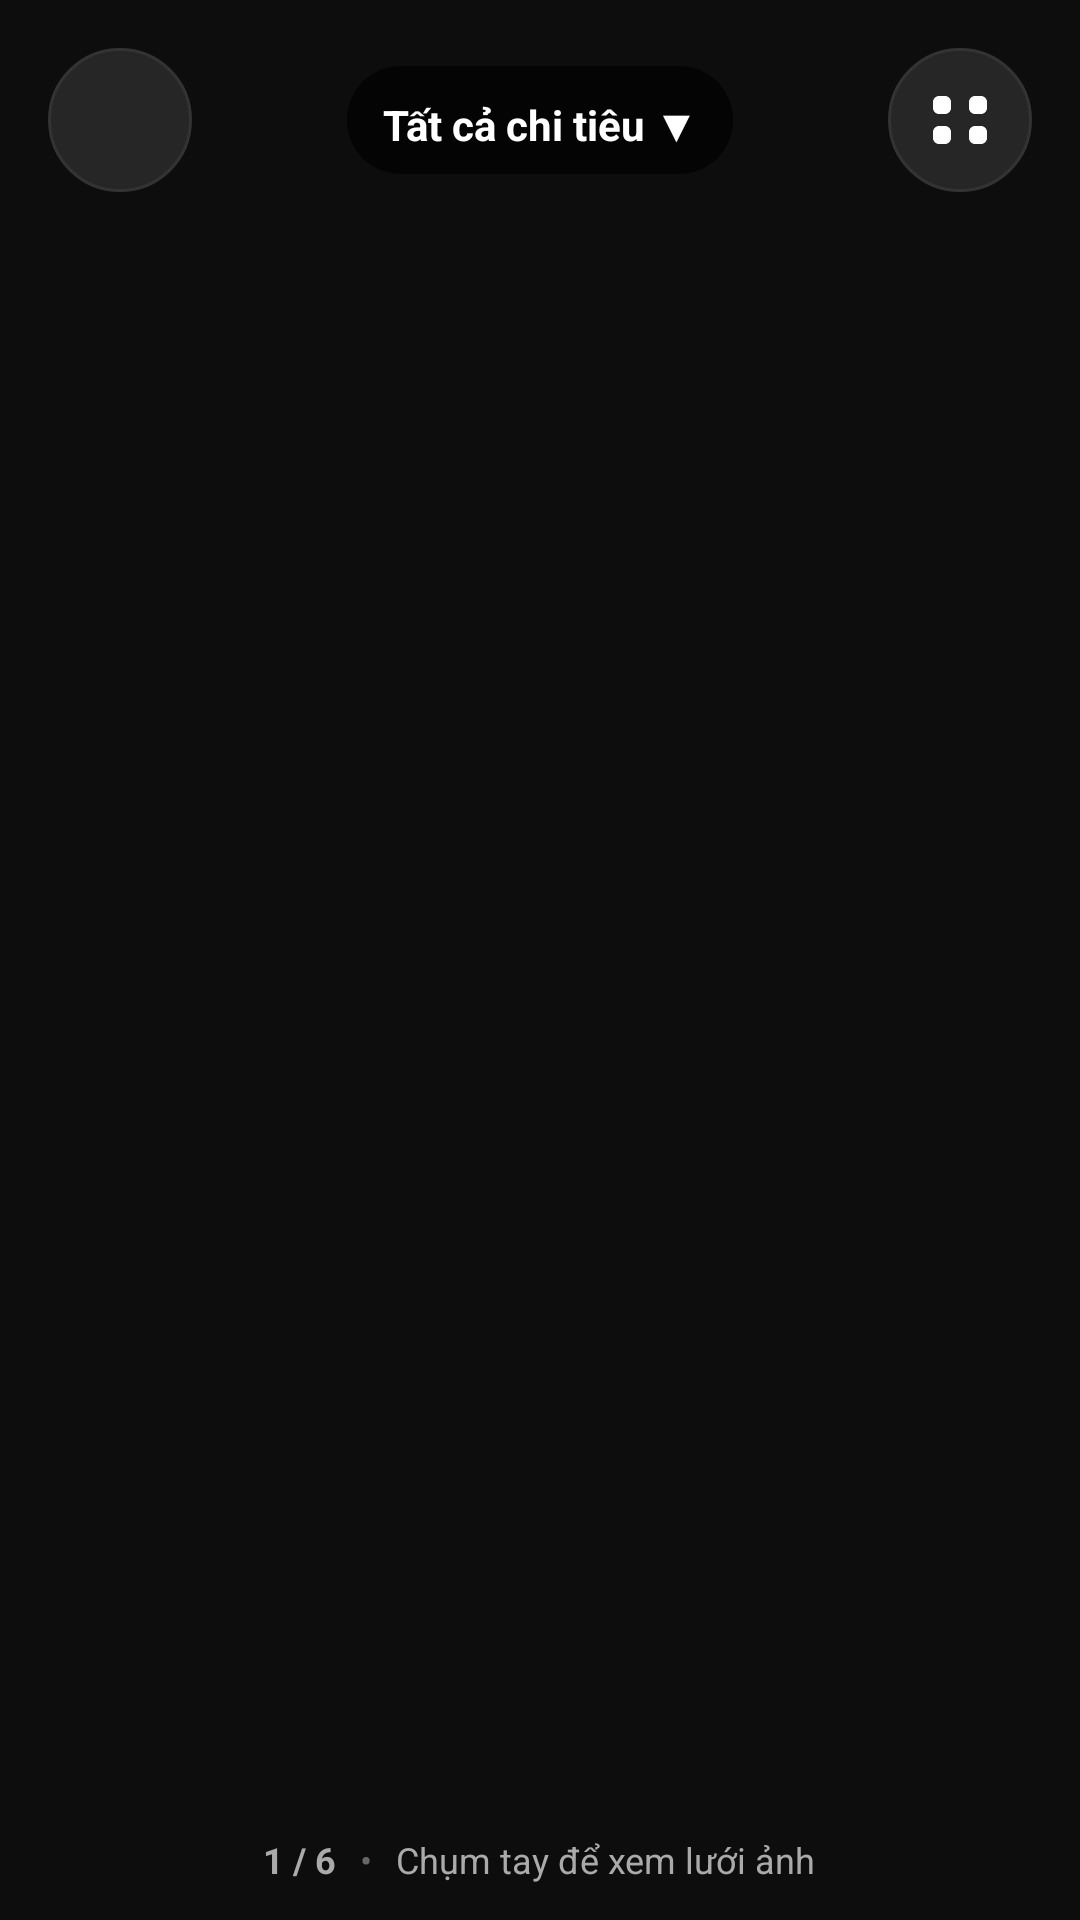

Point at icon controls on the screen. Image size 1080px x 1920px, points as point (x, y).
Xem lưới ảnh: point (960, 120)
